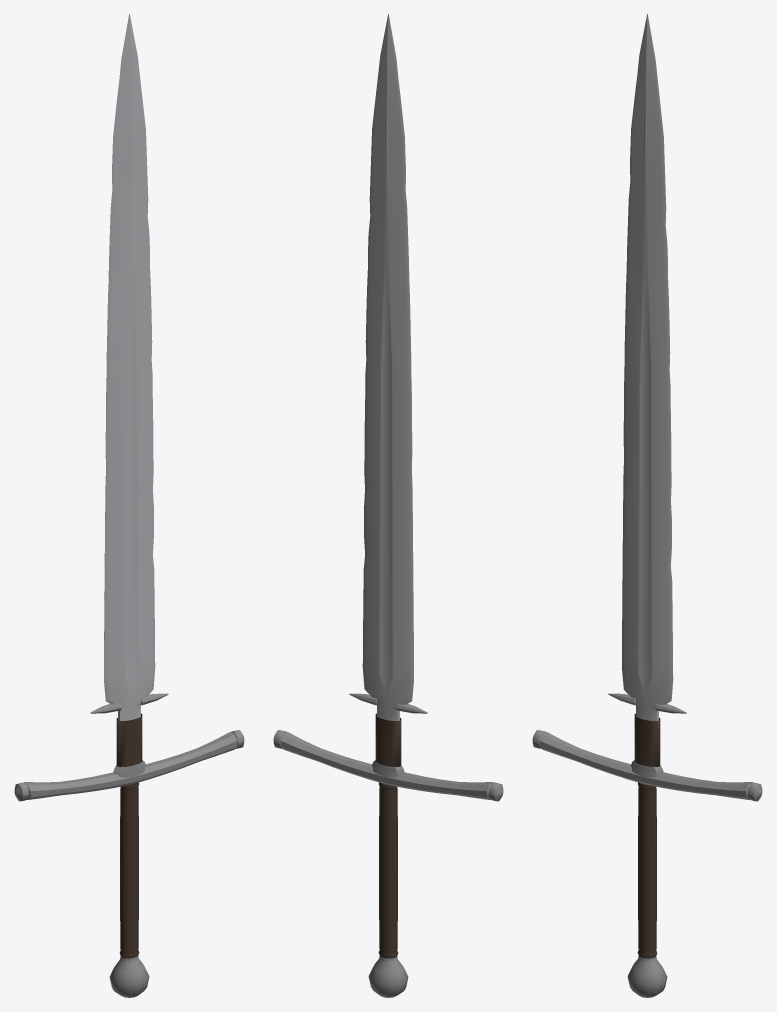
Rendered from gear_greatsword.glb.
The picture shows the model from 3 angles, left to right: view 1: azimuth 30°, elevation 25°; view 2: azimuth 150°, elevation 25°; view 3: azimuth 330°, elevation 25°; orthographic projection.
Visible parts, largest first — view 1: gear_greatsword; view 2: gear_greatsword; view 3: gear_greatsword.
Boxes of the visible parts, x1,y1,x2,y2 form: gear_greatsword: [14, 14, 244, 997]; gear_greatsword: [273, 14, 503, 997]; gear_greatsword: [532, 14, 762, 997].
Size of the model in its own units: 0.44 by 1.82 by 0.064.
